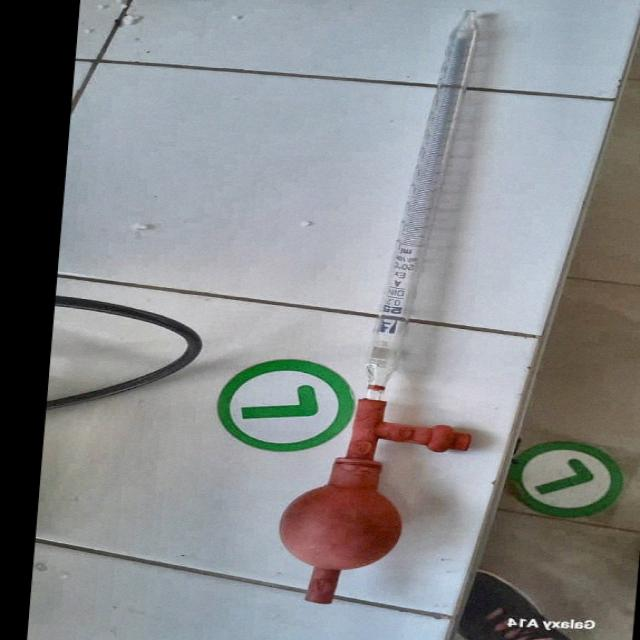Droppers: (256, 18, 516, 619)
